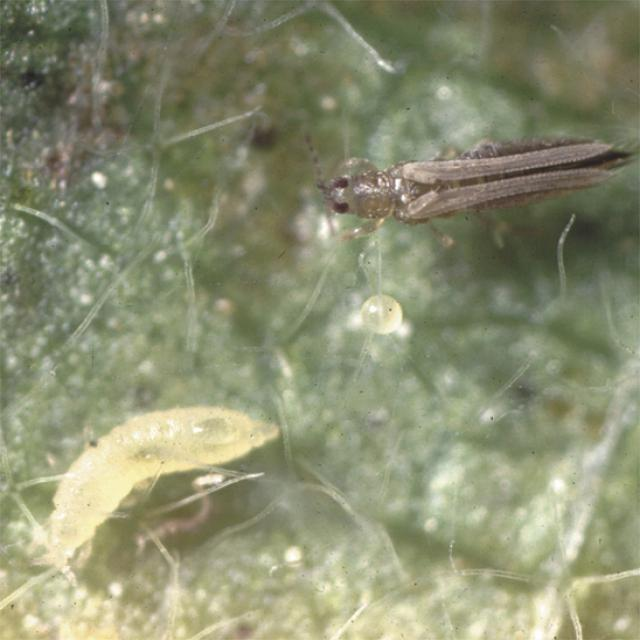Thrip-Adult-: (294, 116, 638, 224)
Thrip-Larva-: (20, 384, 293, 586)
